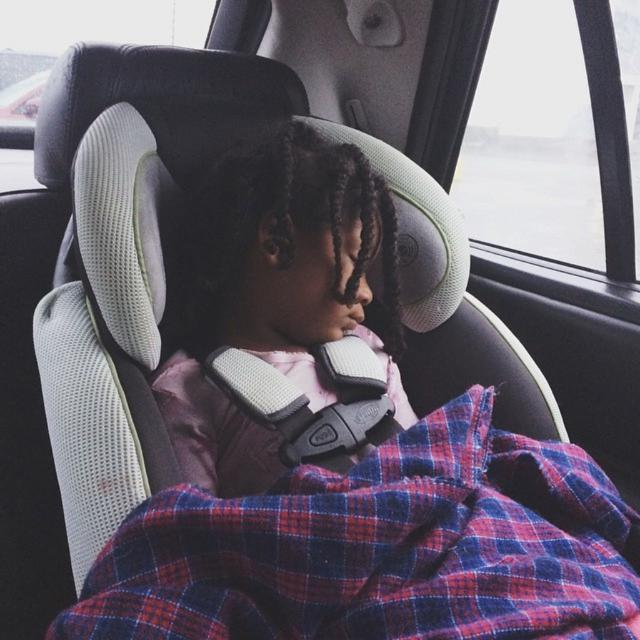Seatbelt: (190, 336, 406, 472)
